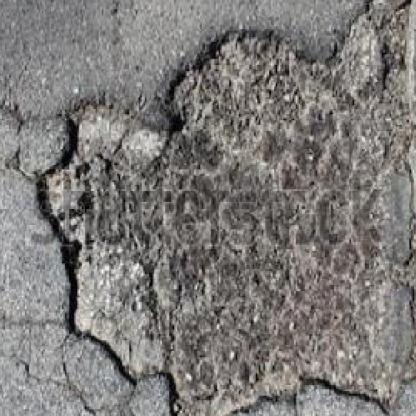pothole: (64, 43, 416, 394)
